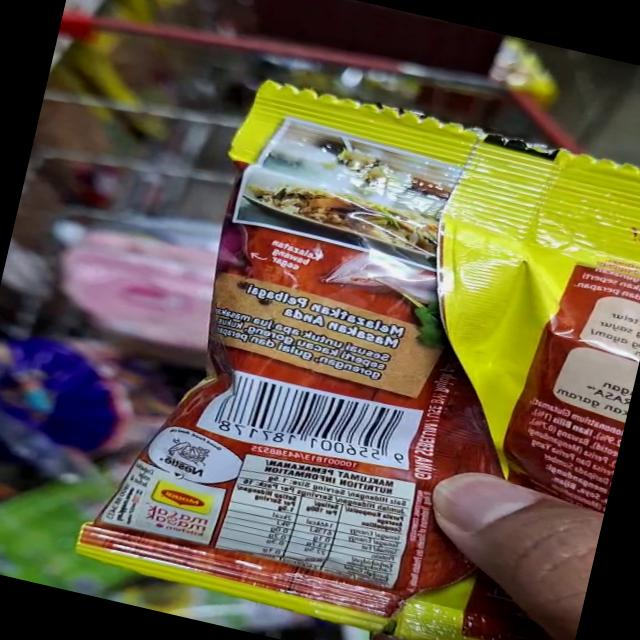Maggi Cukup Rasa: (63, 78, 640, 640)
